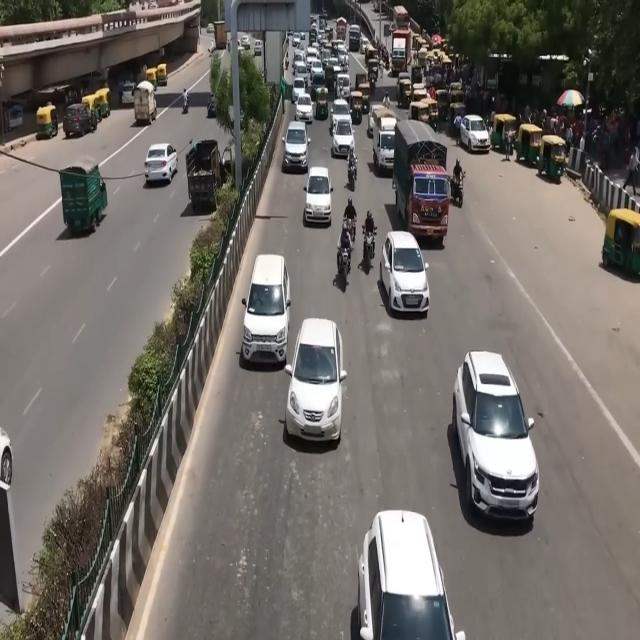auto: (59, 160, 108, 235), (602, 208, 640, 278), (538, 134, 567, 183), (516, 122, 543, 166), (492, 112, 519, 154), (413, 97, 438, 131), (36, 103, 58, 140), (82, 92, 104, 122), (94, 88, 112, 120), (349, 90, 365, 123), (314, 85, 328, 121), (449, 99, 466, 127), (146, 67, 158, 90), (156, 63, 167, 87)
bike-auto: (336, 228, 355, 280), (362, 208, 378, 258), (343, 198, 358, 240), (451, 170, 465, 208), (347, 148, 358, 188), (382, 46, 390, 70), (182, 88, 189, 114), (368, 68, 376, 90), (378, 59, 384, 78)
